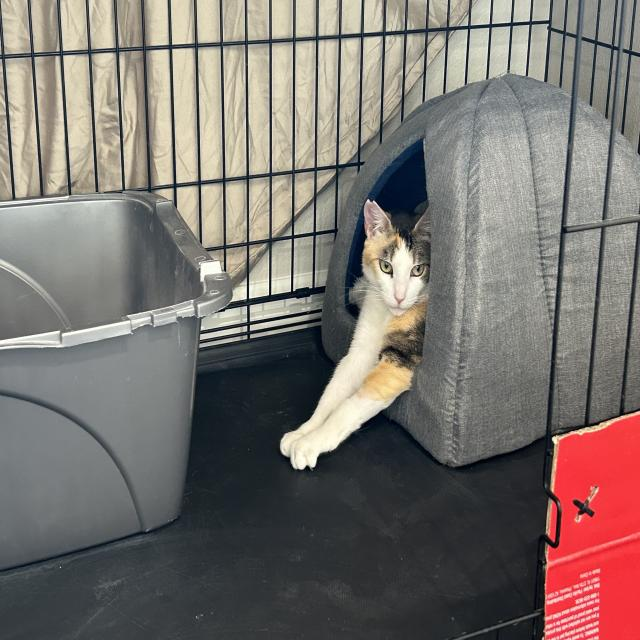domestic_short_hair_cat: (357, 194, 441, 326)
